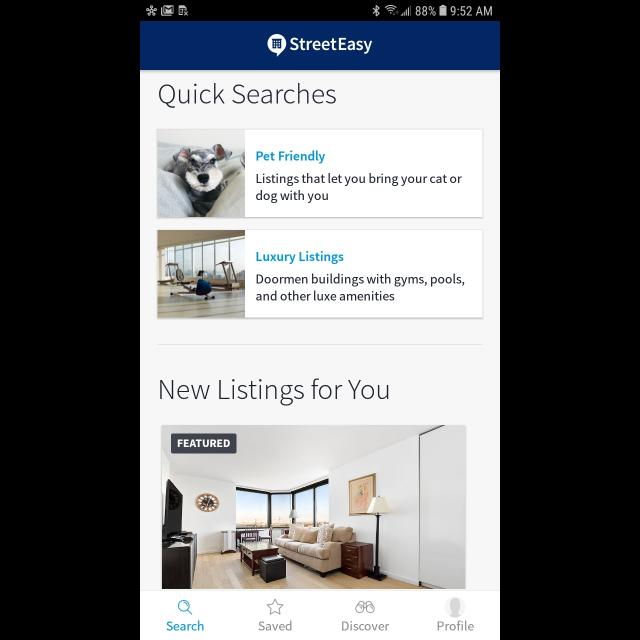icon: (444, 598, 466, 618), (266, 599, 284, 615), (178, 600, 194, 616)
image: (162, 426, 466, 588), (158, 230, 246, 318), (158, 130, 245, 218), (268, 35, 286, 57), (355, 600, 375, 614)
text: (160, 378, 388, 406), (256, 174, 462, 204), (256, 274, 464, 302), (160, 83, 336, 109), (290, 37, 372, 54), (256, 252, 344, 264), (256, 151, 326, 165), (342, 621, 390, 631), (260, 620, 292, 632), (168, 621, 205, 631), (438, 621, 474, 631)
textbutton: (172, 434, 236, 454)
uppertaskbar: (140, 1, 500, 21)
